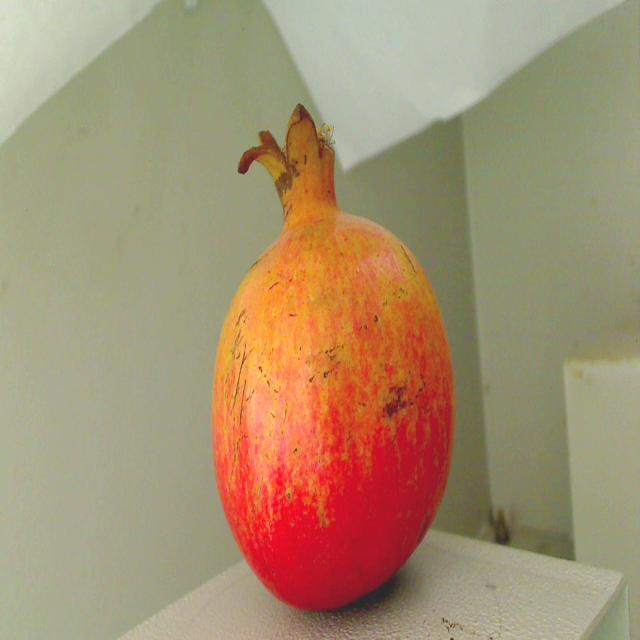pomegranate: (201, 89, 461, 640)
